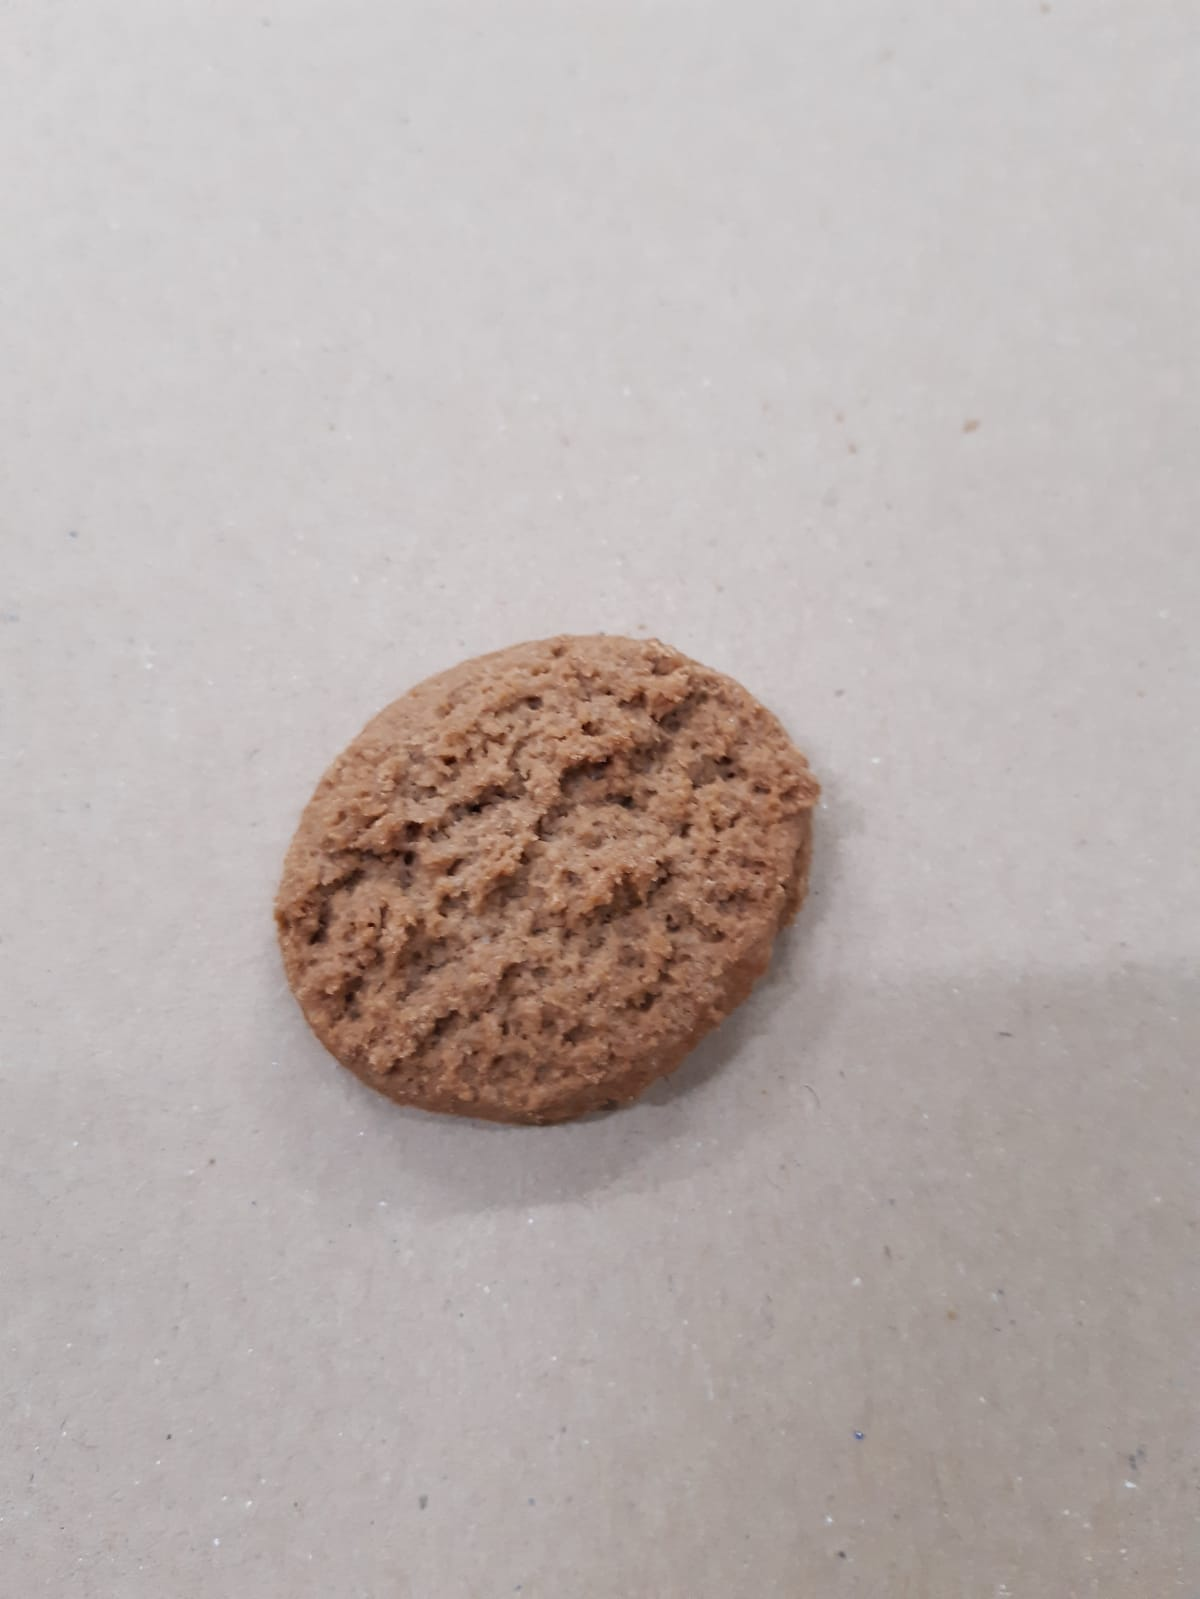Cookie3: (279, 631, 814, 1132)
